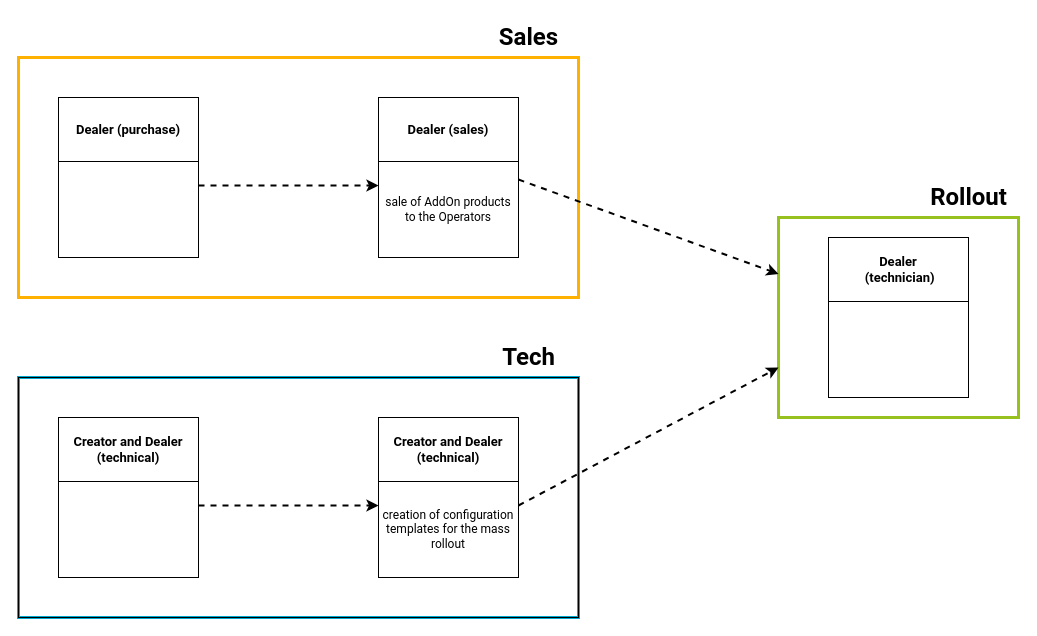
Image size: 1037x636. Some labels were removed from this diagram. The centre of each missing label's shape, as x and y in pixels:
discussion about the rollout scenarios and configuration: (x=128, y=529)
on site rollout to the Operators: (x=898, y=349)
purchase of AddOn entitlements from the ft.Shop: (x=128, y=209)
